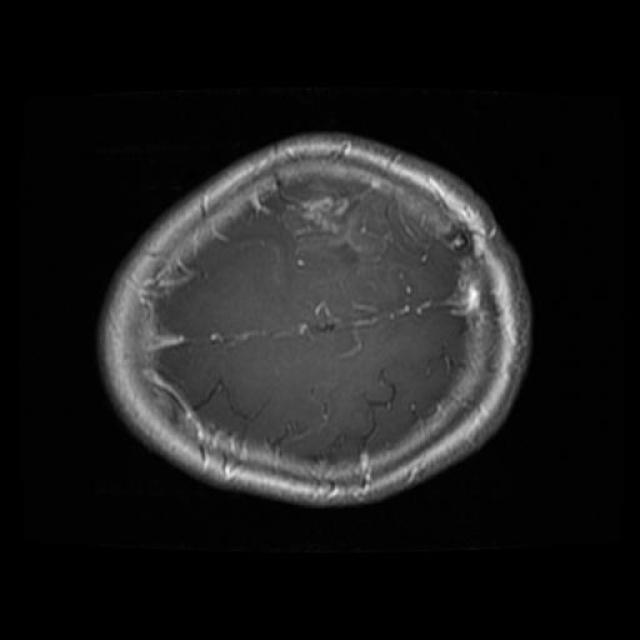Glioma: (270, 163, 432, 269)
